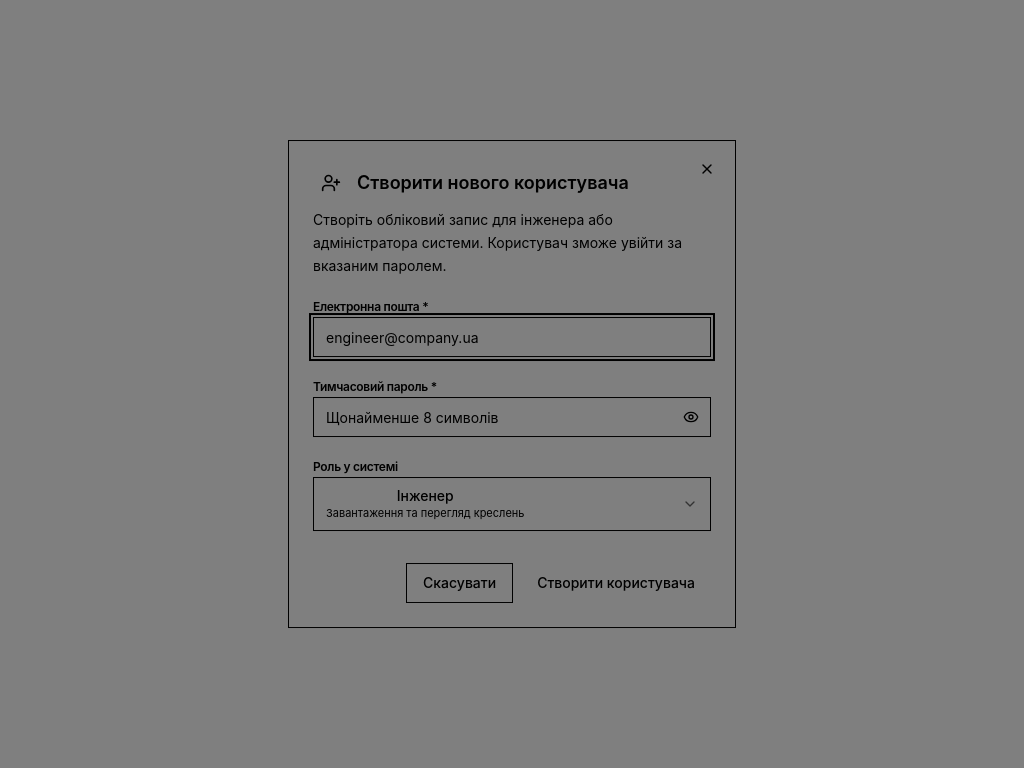
CreateUserDialog Component (BIM-66 Phase 4) › Client-side Form Validation › shows error for short password (< 8 chars)
The image size is (1024, 768).
Type "valid@bim.ua" into the field labelled "Електронна пошта *" at (512, 337), box [313,317,711,357]
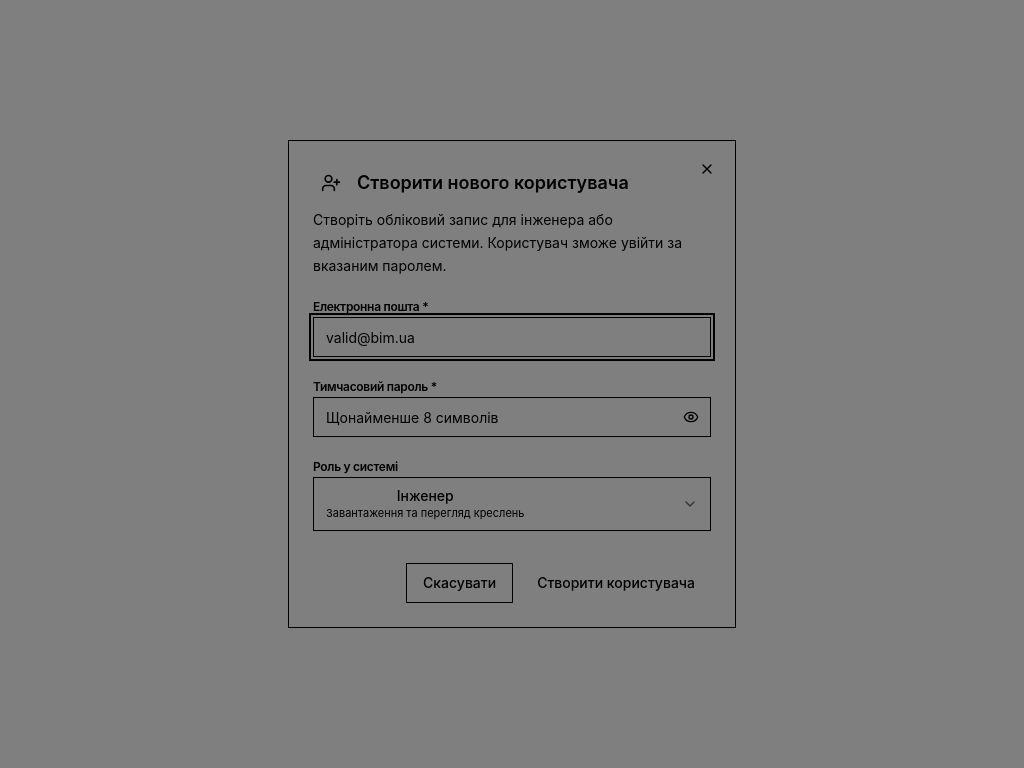
Type "1234567" into the password field labelled "Тимчасовий пароль *" at (512, 417), box [313,397,711,437]
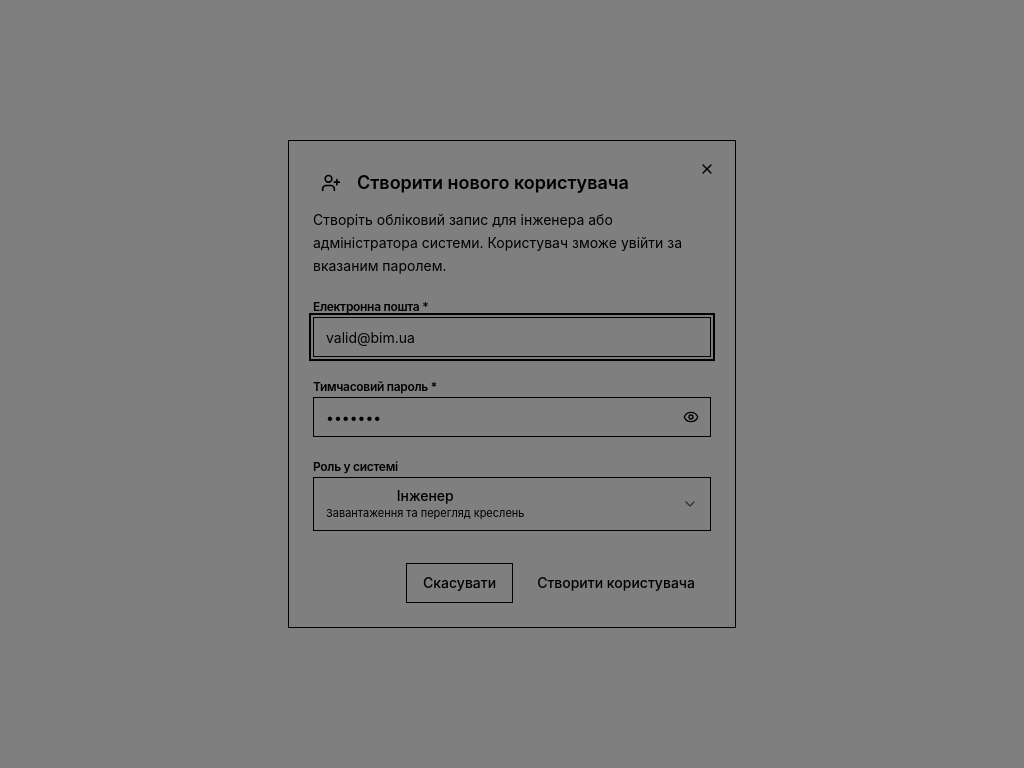
Click the button with test id "create-user-submit-button" at (616, 583), box [521,563,711,603]
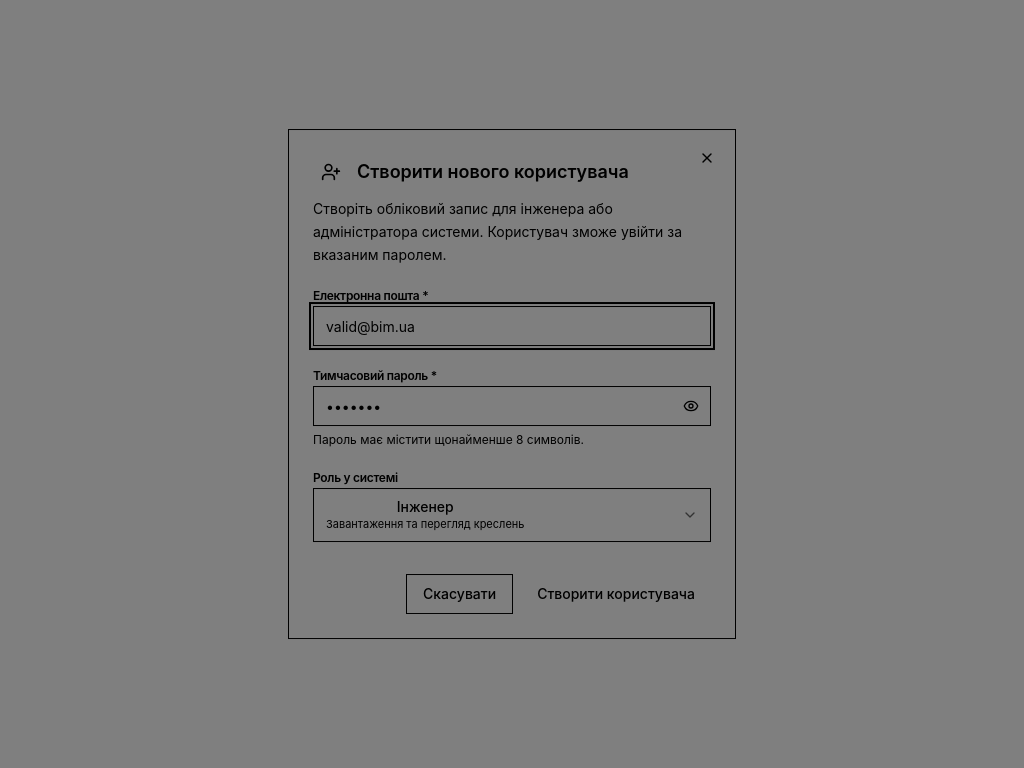
Check: the text "Пароль має містити щонайменше 8 символів." is shown, box [313,432,584,447]
